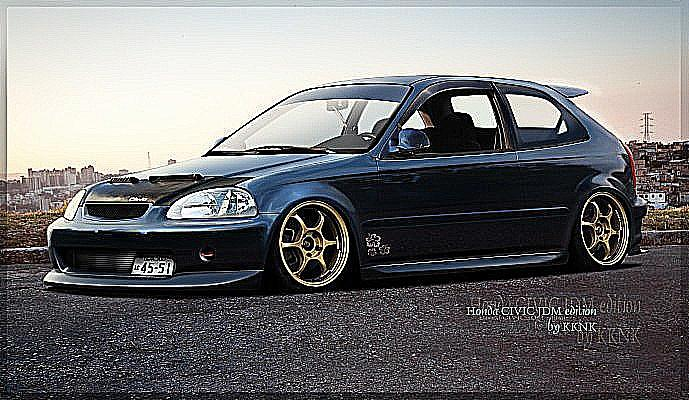Car hood: (105, 150, 383, 193)
Fender - -F-L-: (259, 159, 391, 302)
Fender - -R-L-: (572, 129, 646, 245)
Front bumper: (40, 215, 285, 301)
Headlight - -L-: (160, 181, 266, 227)
Headlight - -R-: (58, 182, 93, 227)
Passenger-s door - -F-L-: (380, 78, 530, 264)
Rear bumper: (625, 189, 671, 270)
Rear light - -L-: (609, 128, 645, 192)
Side bumper - -L-: (353, 250, 587, 289), (392, 123, 436, 162)
